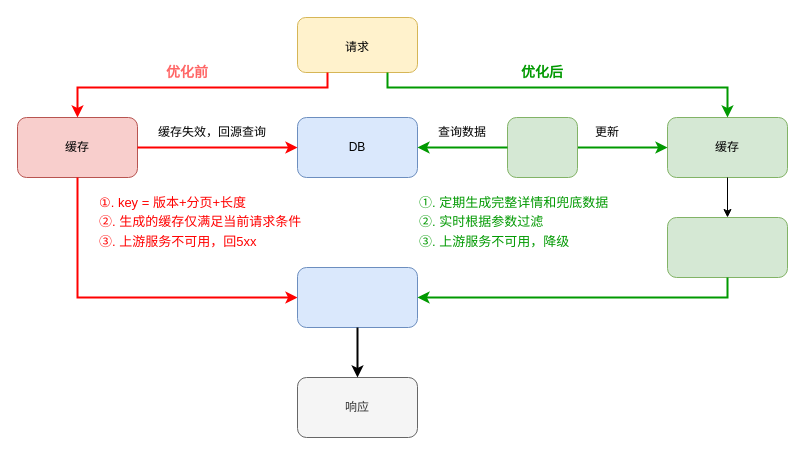
Image size: 805x455. Some labels were removed from this diagram. The box of each missing label's shape, as (x1, y1, x2, y2) in pixels:
定时任务: (506, 116, 578, 178)
条件过滤: (666, 216, 788, 278)
请求上游服务: (296, 266, 418, 328)
